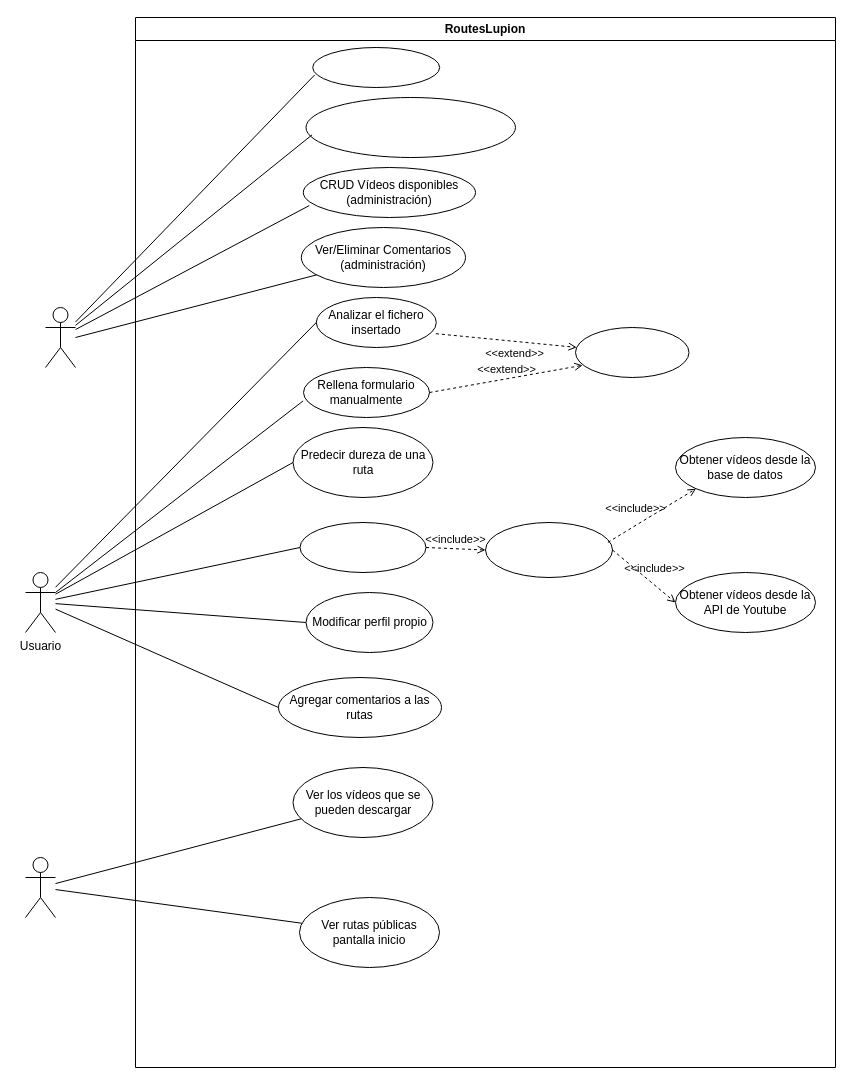
This 853x1085 diagram has some shape labels left out. The centre of each missing label's shape, as x and y in pixels:
"Administrador" goes at point 60,337.
"Anónimo" goes at point 40,887.
"Crear Nuevas rutas" goes at point 631,352.
"CRUD Usuarios (administración )" goes at point 376,67.
"Descargar Vídeos disponibles" goes at point 362,547.
"Seleccionar Temática (lista)" goes at point 548,550.
"Ver/Eliminar Rutas a todos los usuarios (administración )" goes at point 410,127.
